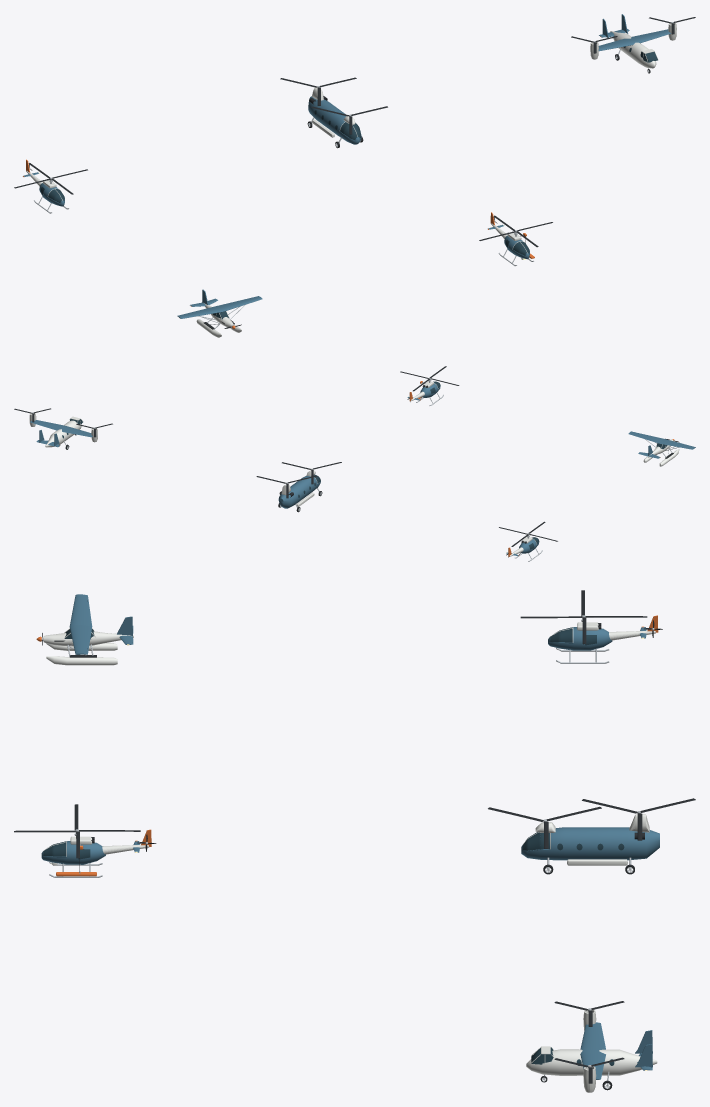
Rendered from transport-collection-hd-air-collection-2-a67b5272__18746.glb.
3 views of the same model, one above another, from view 1: azimuth 30°, elevation 25°; view 2: azimuth 150°, elevation 25°; view 3: azimuth 270°, elevation 25° (orthographic). The views are drawn at different scales.
Parts seen in each view (by area): view 1: 001-tandem-cargo-helicopter/0, 002-tiltrotor-transport/2, 003-floatplane/2, 002-tiltrotor-transport/0; view 2: 001-tandem-cargo-helicopter/0, 002-tiltrotor-transport/2, 003-floatplane/2, 002-tiltrotor-transport/0; view 3: 001-tandem-cargo-helicopter/0, 002-tiltrotor-transport/0, 003-floatplane/0, 002-tiltrotor-transport/2, 003-floatplane/2, 004-rescue-helicopter/0, 001-tandem-cargo-helicopter/2, 000-utility-helicopter/0.
Boxes of the visible parts, bbox=[...] form: 001-tandem-cargo-helicopter/0: bbox=[308, 96, 361, 144]; 002-tiltrotor-transport/2: bbox=[598, 14, 670, 51]; 003-floatplane/2: bbox=[177, 289, 262, 318]; 002-tiltrotor-transport/0: bbox=[610, 31, 658, 68]; 001-tandem-cargo-helicopter/0: bbox=[278, 476, 320, 508]; 002-tiltrotor-transport/2: bbox=[30, 420, 92, 447]; 003-floatplane/2: bbox=[628, 431, 695, 458]; 002-tiltrotor-transport/0: bbox=[45, 416, 83, 447]; 001-tandem-cargo-helicopter/0: bbox=[521, 827, 659, 860]; 002-tiltrotor-transport/0: bbox=[526, 1046, 657, 1075]; 003-floatplane/0: bbox=[43, 628, 133, 665]; 002-tiltrotor-transport/2: bbox=[580, 1022, 652, 1079]; 003-floatplane/2: bbox=[69, 594, 133, 654]; 004-rescue-helicopter/0: bbox=[41, 841, 139, 864]; 001-tandem-cargo-helicopter/2: bbox=[523, 814, 649, 865]; 000-utility-helicopter/0: bbox=[548, 627, 646, 650].
Size of the model in its own units: 79.27 by 4 by 45.77.
